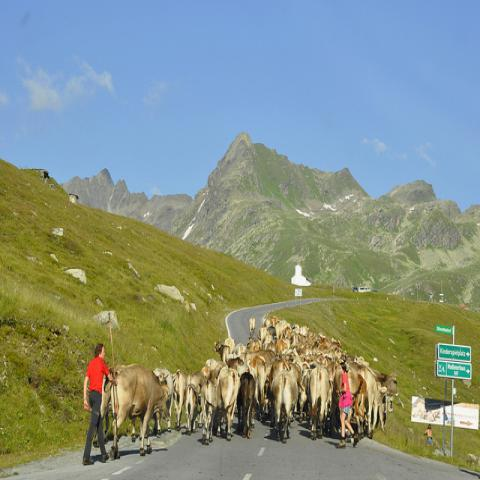car: (358, 287, 366, 292), (352, 287, 358, 292)
truck: (358, 287, 371, 293)
